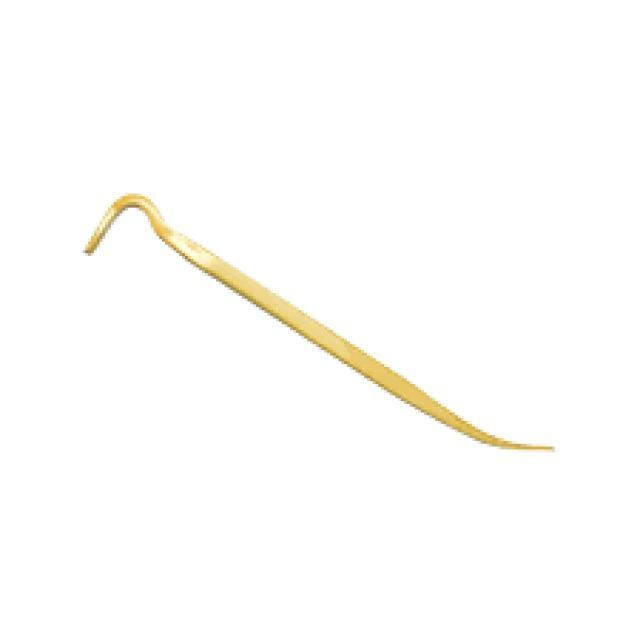Linggis: (74, 186, 562, 462)
